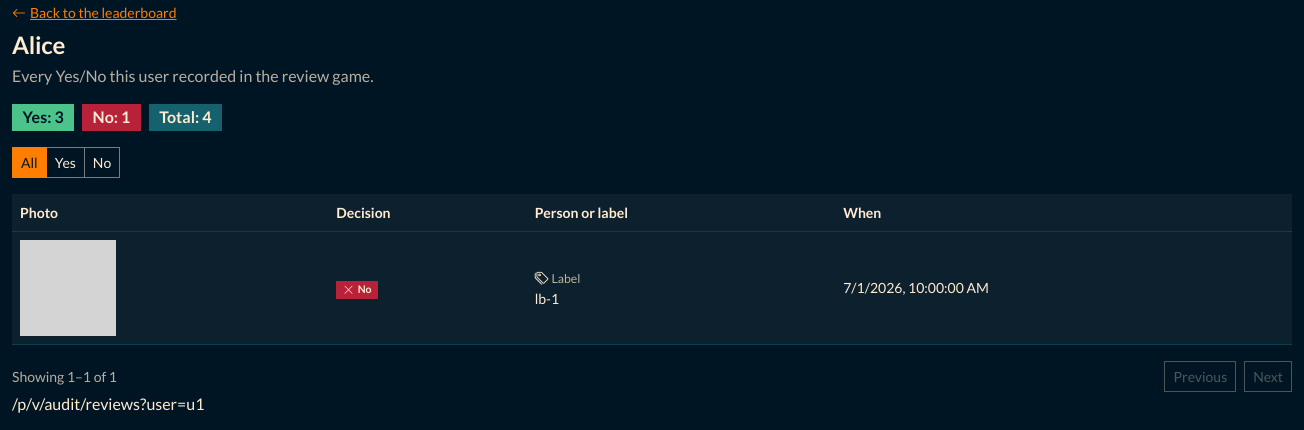
Test: ReviewDecisionsPage › filters to the Ne bucket, updating the URL and refetching
The image size is (1304, 430).
Expected: the row with test id "decision-row-2" is shown, left=12, top=232, right=1292, bottom=344
Step 1. Click the button "No" → coordinates (102, 162), box left=84, top=147, right=120, bottom=178
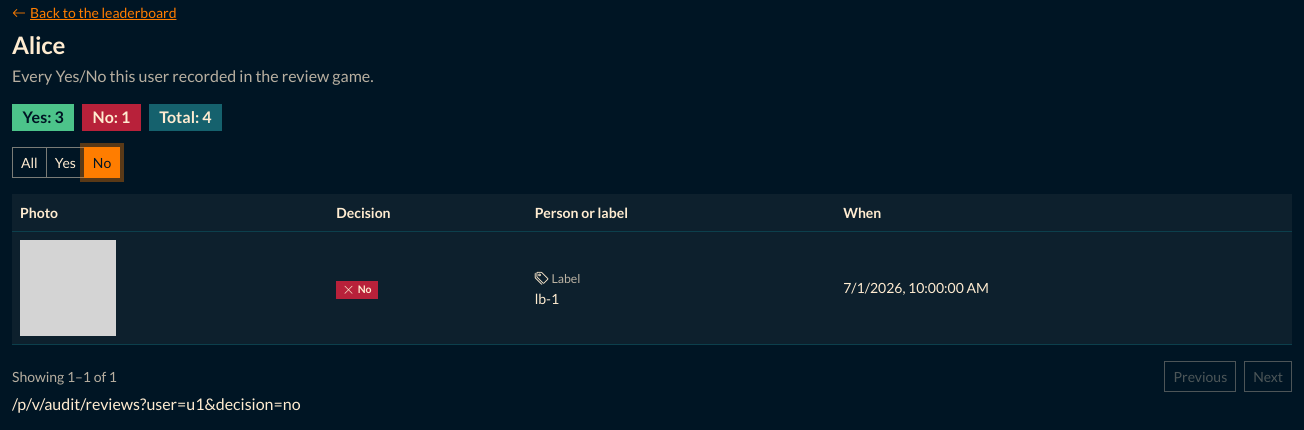
Expected: the text with test id "location" shows "decision=no", left=12, top=394, right=301, bottom=413
